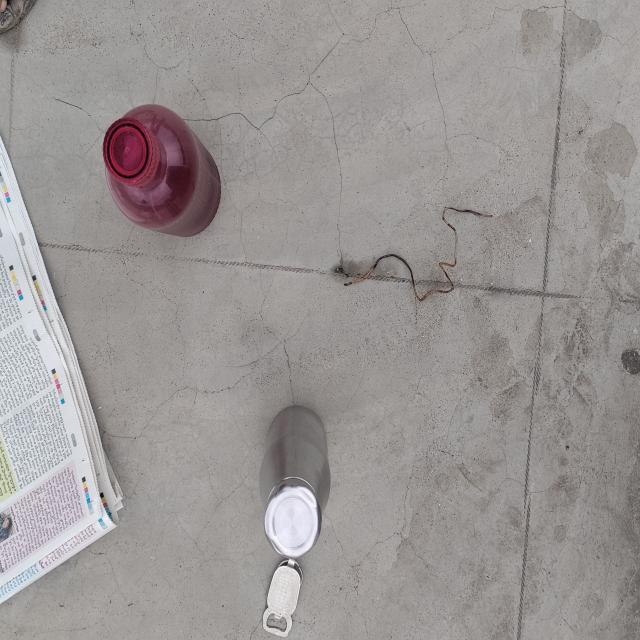dry: (0, 139, 99, 604), (101, 101, 222, 237), (332, 205, 494, 300), (260, 402, 330, 557), (263, 558, 303, 639)
